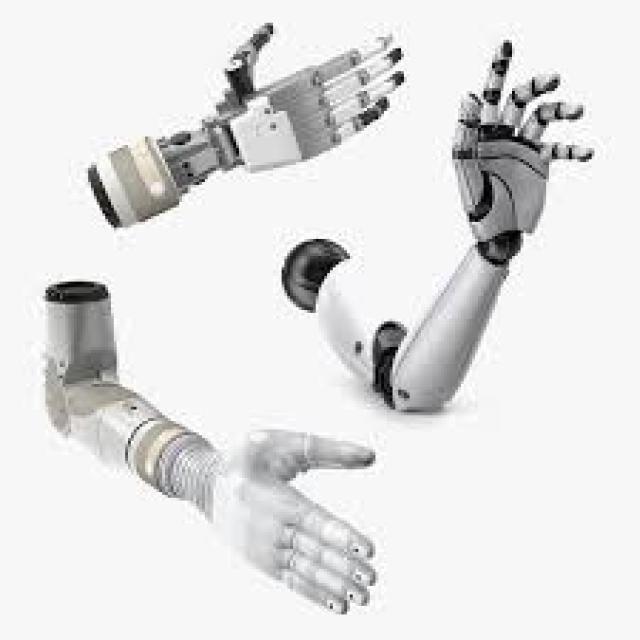humanoid-arm: (46, 376, 382, 612), (400, 36, 602, 398), (84, 24, 412, 228)
